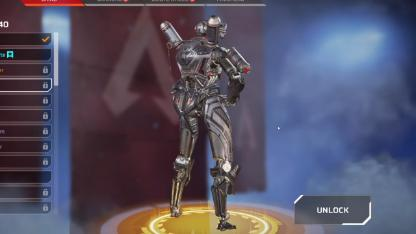Target: (166, 9, 234, 186)
